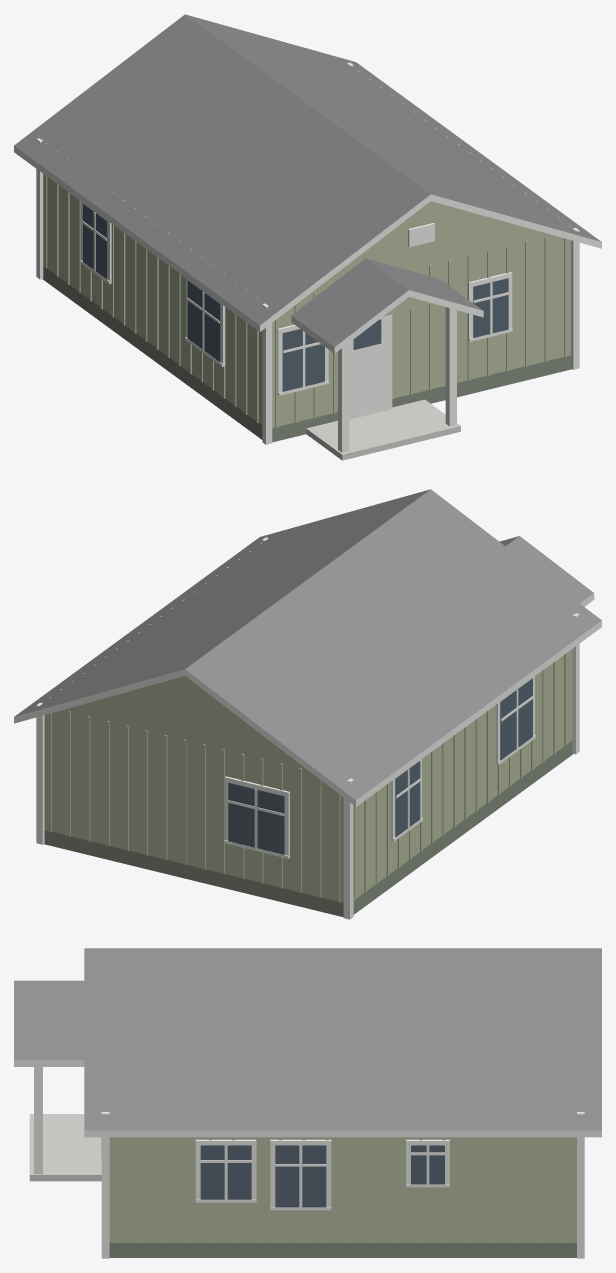
File: peach-sage.glb
3 renders of one model, top to bottom at view 1: azimuth 30°, elevation 25°; view 2: azimuth 150°, elevation 25°; view 3: azimuth 270°, elevation 25°, orthographic. The views are drawn at different scales.
Visible parts, largest first — view 1: The Peach (sage); view 2: The Peach (sage); view 3: The Peach (sage).
Part boxes in pixels (x1,y1,x2,y2): The Peach (sage): (14,14,601,460); The Peach (sage): (14,489,601,919); The Peach (sage): (14,948,601,1258).
Bounding box in the file's own units: 7.47 × 4.57 × 10.56.
